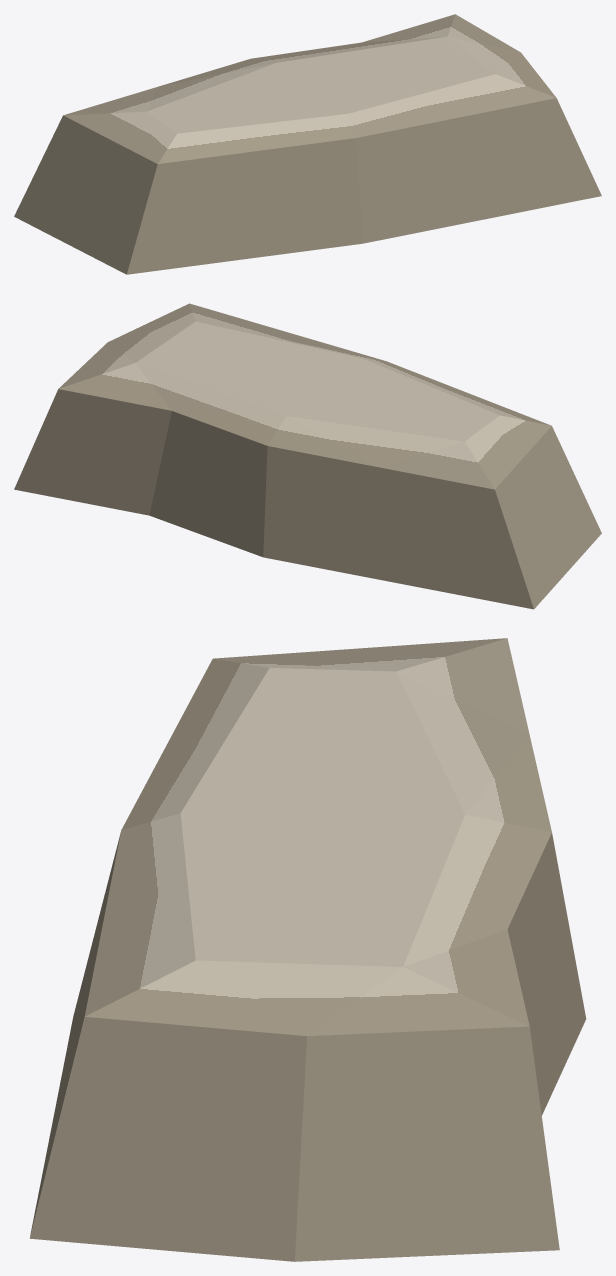
The model's file is Rock_06.fbx.
3 views of the same model, one above another, from view 1: azimuth 30°, elevation 25°; view 2: azimuth 150°, elevation 25°; view 3: azimuth 270°, elevation 25° (orthographic). The views are drawn at different scales.
Parts seen in each view (by area): view 1: Rock_06; view 2: Rock_06; view 3: Rock_06.
Part boxes in pixels (x1=…): Rock_06: x1=14, y1=14, x2=601, y2=274; Rock_06: x1=14, y1=303, x2=601, y2=609; Rock_06: x1=29, y1=638, x2=586, y2=1261.
Bounding box in the file's own units: 81.44 × 17.21 × 40.41.
Materials: 1 (1 with a texture image).
